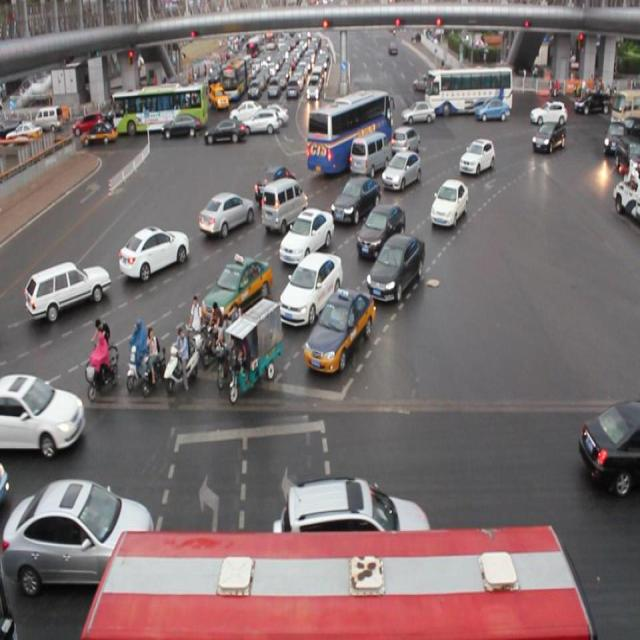car: (1, 477, 155, 592), (276, 476, 432, 556), (0, 368, 86, 458), (578, 396, 640, 500), (302, 289, 374, 376), (200, 252, 273, 337), (24, 261, 109, 323), (278, 250, 342, 326), (364, 230, 425, 305), (119, 226, 189, 278), (279, 209, 334, 265), (355, 204, 406, 258), (329, 176, 380, 227), (199, 191, 254, 233), (429, 178, 468, 230), (253, 167, 297, 206), (382, 149, 421, 191), (458, 138, 495, 177), (531, 122, 565, 154), (390, 127, 420, 156)
truck: (260, 177, 308, 233), (340, 138, 384, 182)
van: (80, 526, 594, 640), (306, 90, 392, 174)
